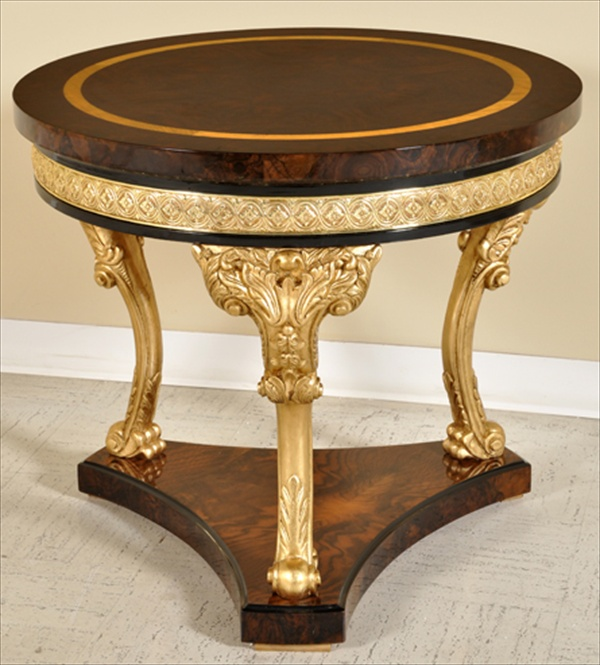Carving Table: (18, 35, 565, 618)
